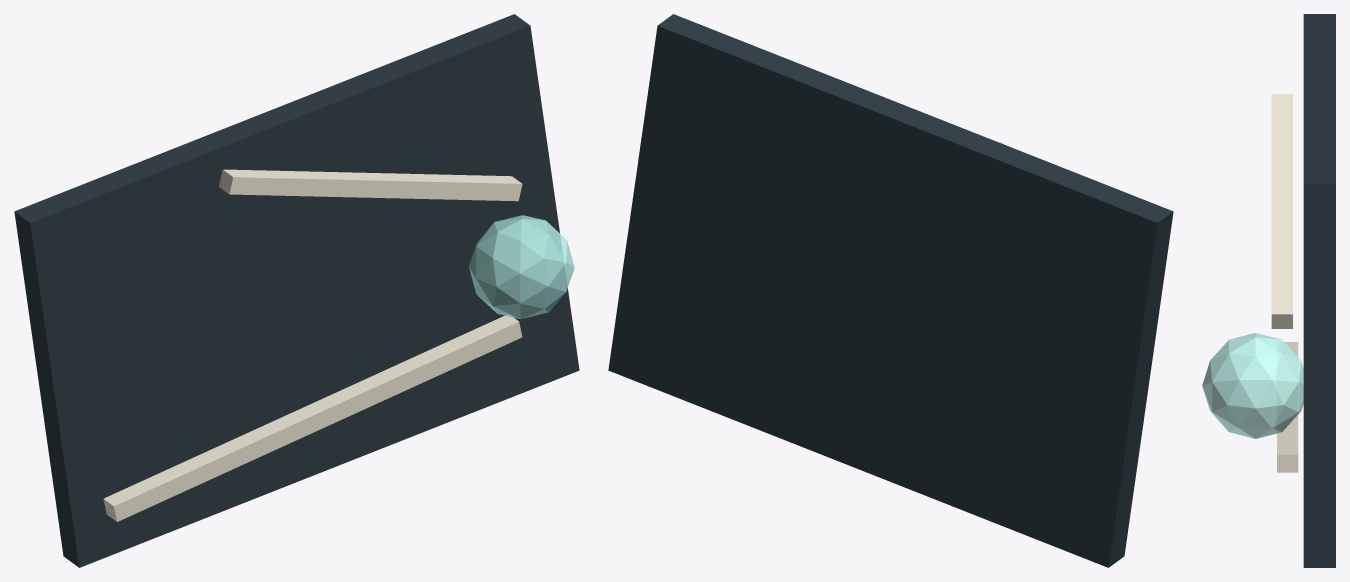
File: 02_world_prop_polish.glb
The picture shows the model from 3 angles, left to right: view 1: azimuth 30°, elevation 25°; view 2: azimuth 150°, elevation 25°; view 3: azimuth 270°, elevation 25°; orthographic projection.
Visible parts, largest first — view 1: object_overlay_plate, edge_wear_a, glow_socket, edge_wear_b; view 2: object_overlay_plate; view 3: object_overlay_plate, glow_socket, edge_wear_b, edge_wear_a.
Boxes of the visible parts, <box> form: object_overlay_plate: <box>14,14,579,567</box>; edge_wear_a: <box>103,314,522,521</box>; glow_socket: <box>468,215,574,319</box>; edge_wear_b: <box>218,169,522,201</box>; object_overlay_plate: <box>608,14,1173,567</box>; object_overlay_plate: <box>1303,14,1335,567</box>; glow_socket: <box>1202,333,1303,438</box>; edge_wear_b: <box>1271,94,1292,328</box>; edge_wear_a: <box>1277,342,1298,472</box>.
Size of the model in its own units: 1.2 by 0.8992 by 0.25.
